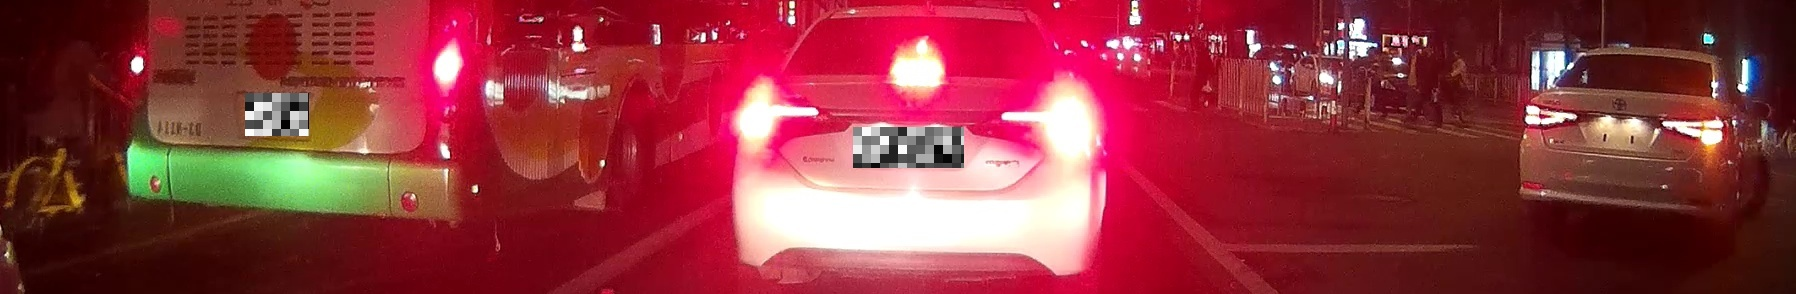L_light: (734, 96, 851, 152), (1523, 102, 1578, 129)
R_light: (967, 104, 1100, 152), (1661, 119, 1724, 146)
T_light: (889, 66, 946, 78), (1626, 53, 1659, 59)
night-brake: (734, 3, 1106, 294)
night-right: (1518, 46, 1730, 247)
plate_1: (245, 93, 309, 136)
plate_2: (853, 127, 964, 168)
